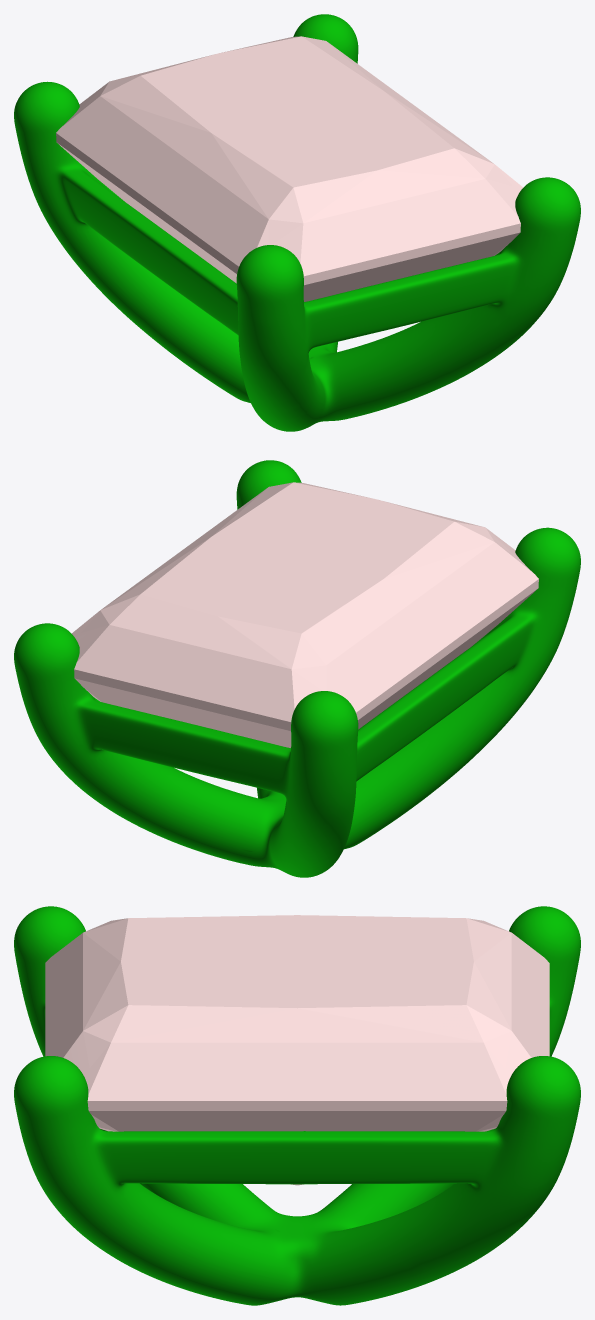
The picture shows the model from 3 angles, top to bottom: view 1: azimuth 30°, elevation 25°; view 2: azimuth 150°, elevation 25°; view 3: azimuth 270°, elevation 25°; orthographic projection. The views are drawn at different scales.
Parts seen in each view (by area): view 1: Diamond_Radiant, Metal01; view 2: Diamond_Radiant, Metal01; view 3: Diamond_Radiant, Metal01.
Part boxes in pixels (bbox=[...]): Diamond_Radiant: bbox=[56, 36, 523, 301]; Metal01: bbox=[14, 14, 580, 431]; Diamond_Radiant: bbox=[71, 482, 538, 747]; Metal01: bbox=[14, 460, 580, 877]; Diamond_Radiant: bbox=[45, 915, 549, 1185]; Metal01: bbox=[14, 906, 580, 1305].
Size of the model in its own units: 8.24 by 6.96 by 10.9.
